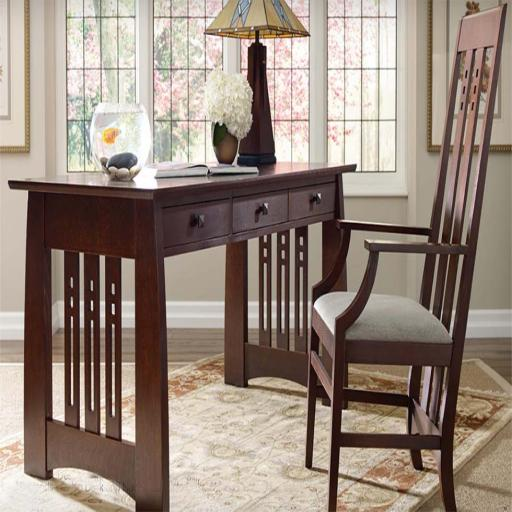chair: (305, 3, 507, 512)
desk: (7, 161, 356, 512)
wall: (0, 0, 512, 339)
